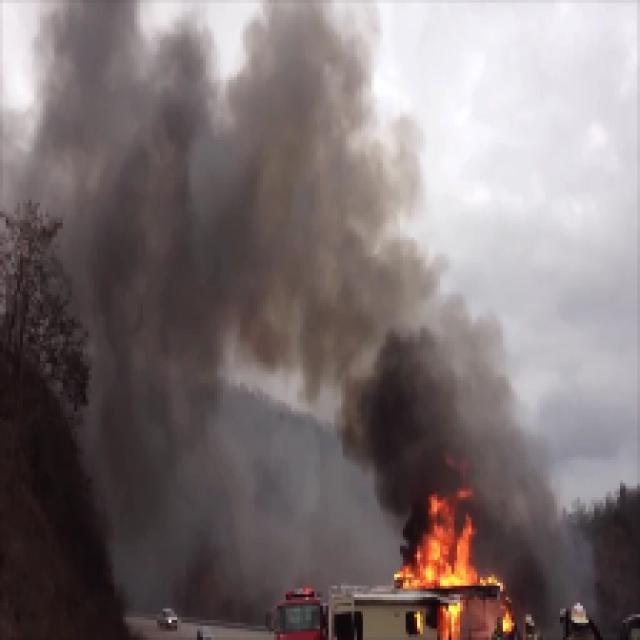fire: (393, 504, 485, 591)
smoke: (105, 106, 366, 337), (370, 363, 486, 497)
